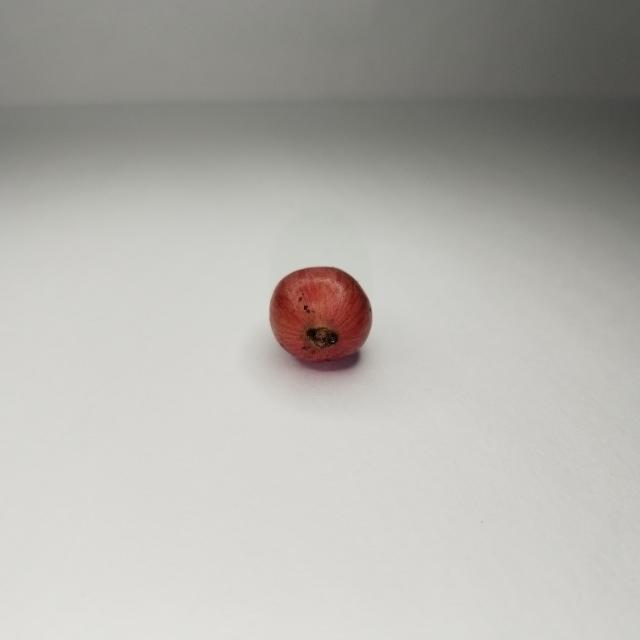Infectado: (270, 267, 373, 360)
